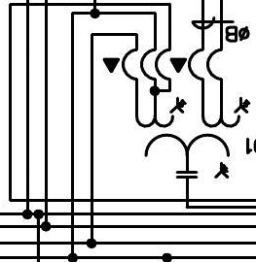115_cvt_3p: (135, 96, 252, 179)
